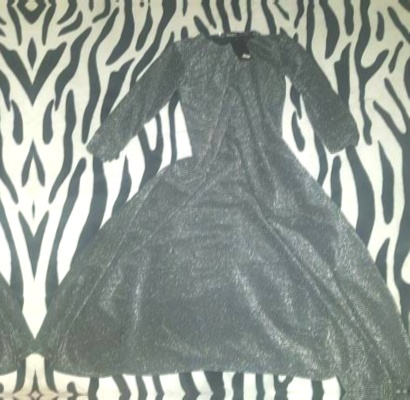Dress: (34, 18, 410, 386), (0, 22, 33, 390)
